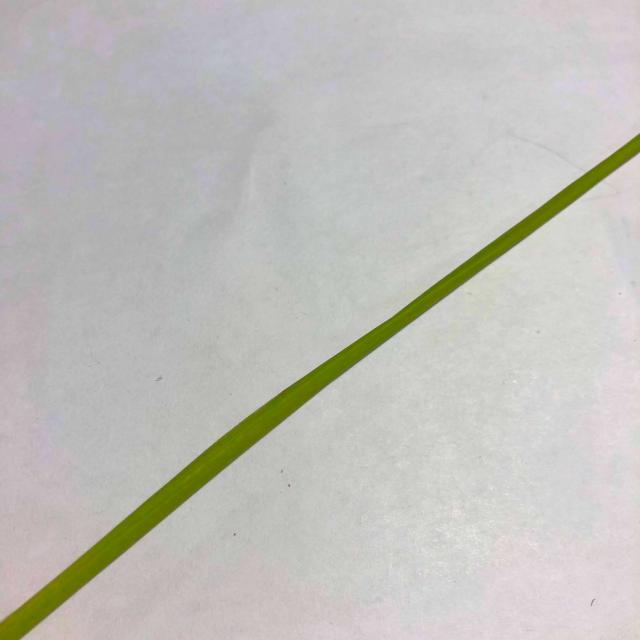Rice_Healthy: (0, 133, 640, 640)
